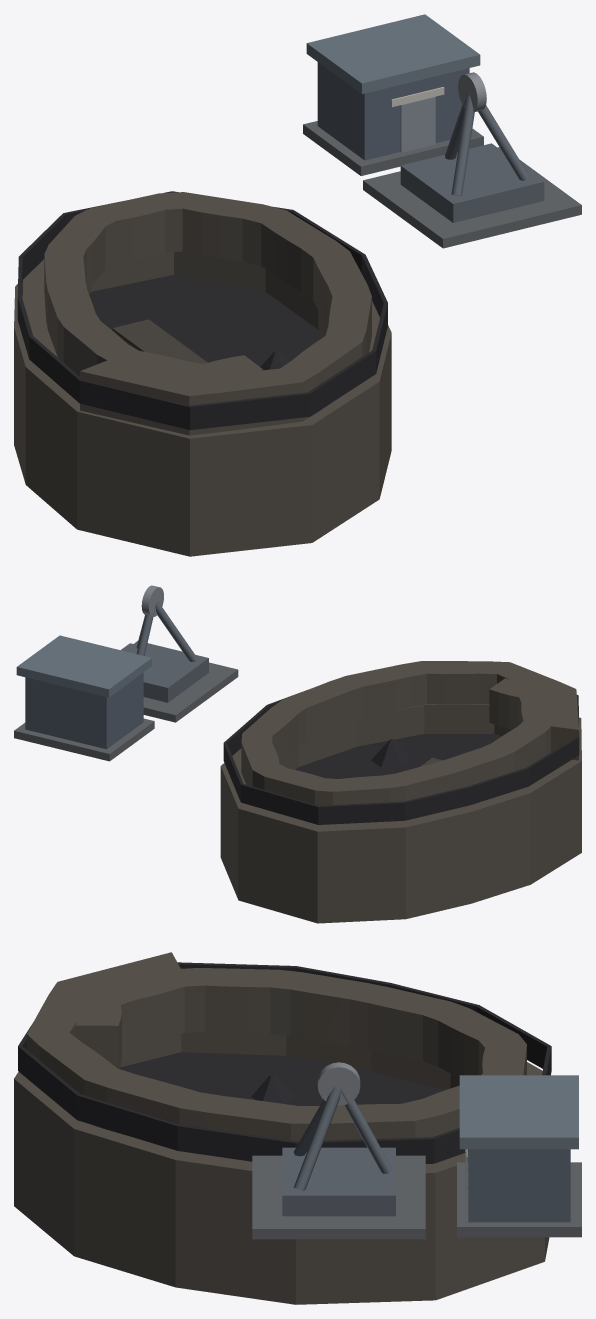
Rendered from mine_flush_lvl1.glb.
The picture shows the model from 3 angles, top to bottom: view 1: azimuth 30°, elevation 25°; view 2: azimuth 150°, elevation 25°; view 3: azimuth 270°, elevation 25°; orthographic projection. The views are drawn at different scales.
Visible parts, largest first — view 1: mine_flush; view 2: mine_flush; view 3: mine_flush.
Boxes of the visible parts, <box> form: mine_flush: <box>14,14,581,556</box>; mine_flush: <box>14,585,581,923</box>; mine_flush: <box>14,952,581,1304</box>.
Bounding box in the file's own units: 0.8613 × 0.4283 × 0.7224.
